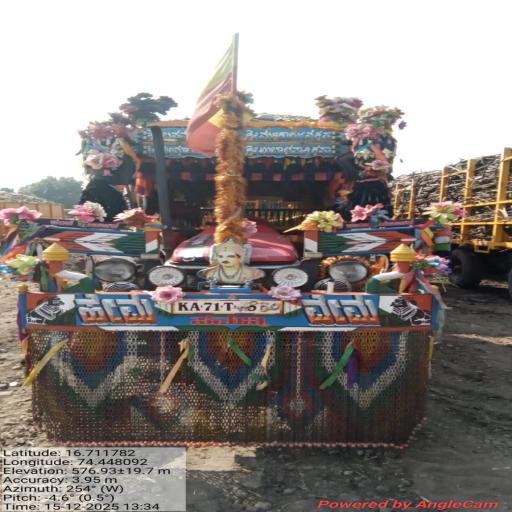number_plate: (159, 287, 299, 316)
